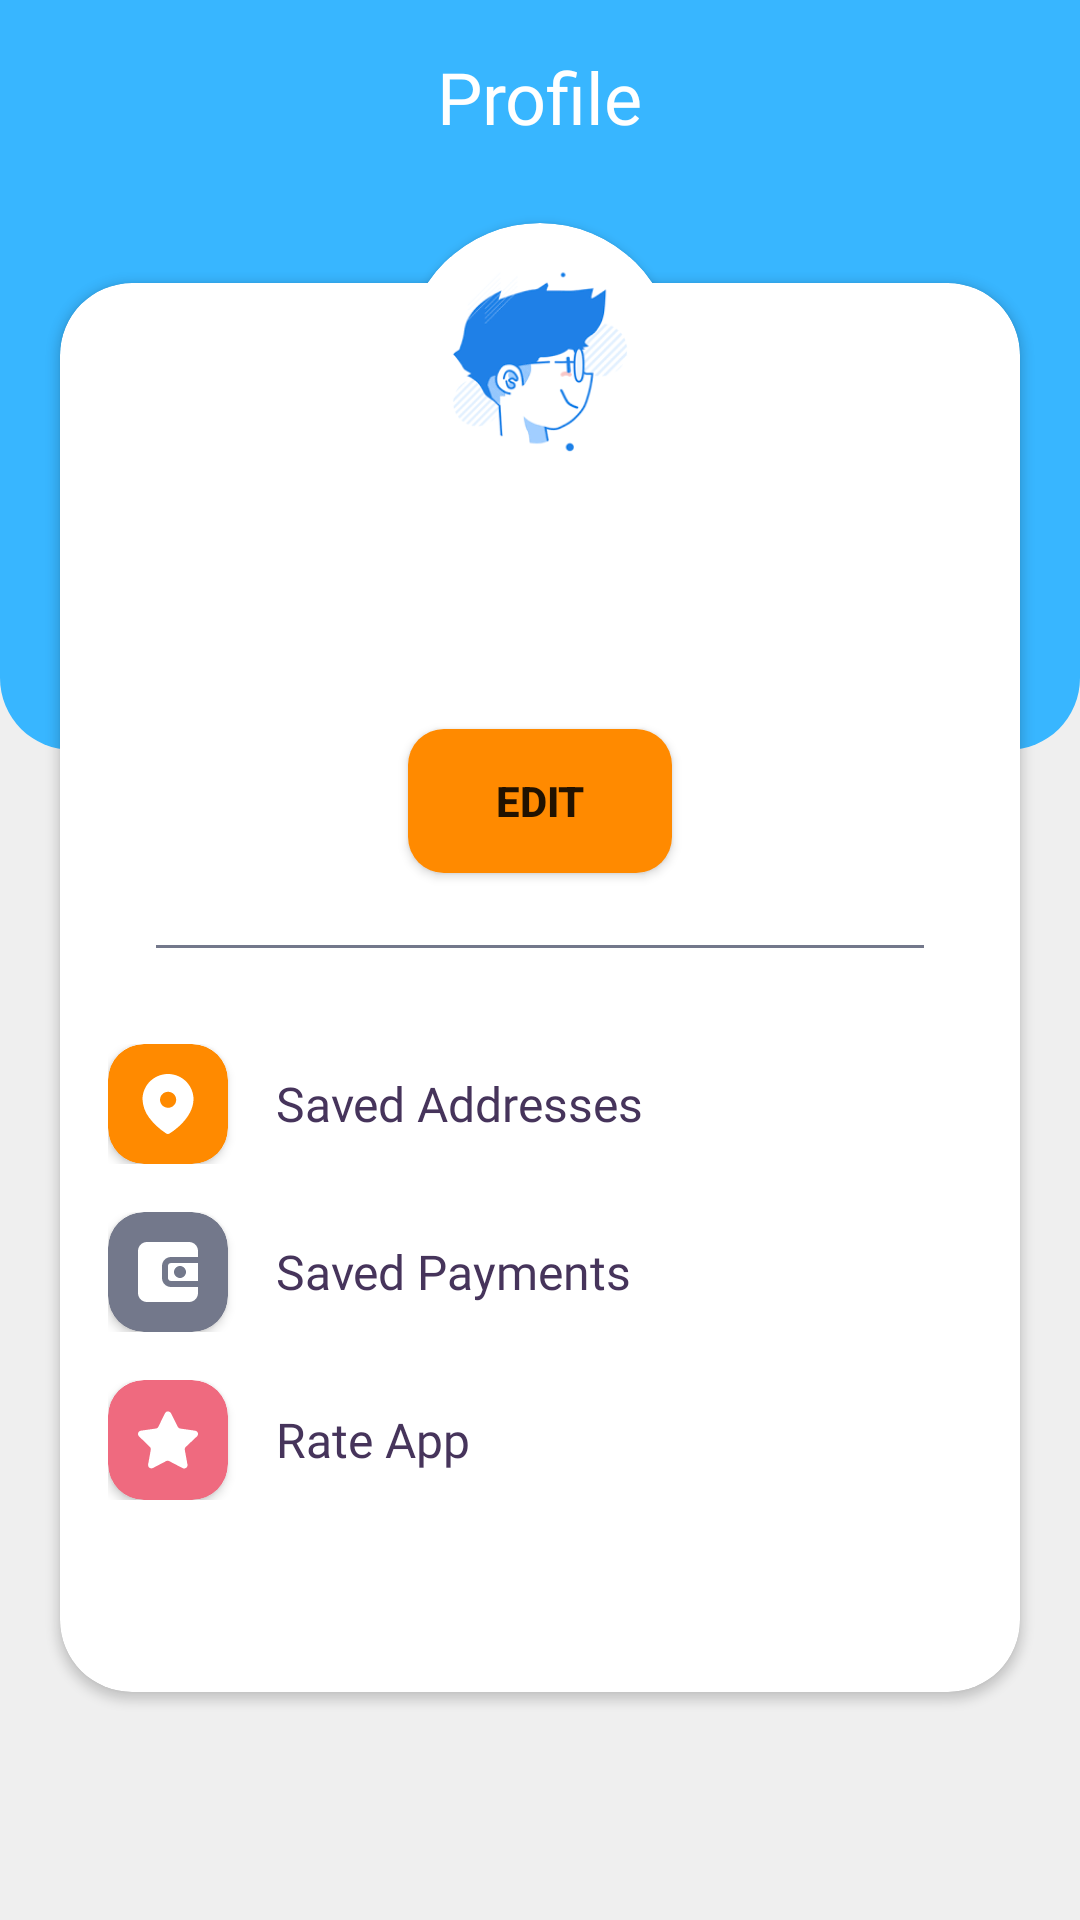

Where to tap for icons on this 1080*1920 app screen, as (x,y):
location: (168,1104)
star: (168,1440)
wallet: (168,1272)
